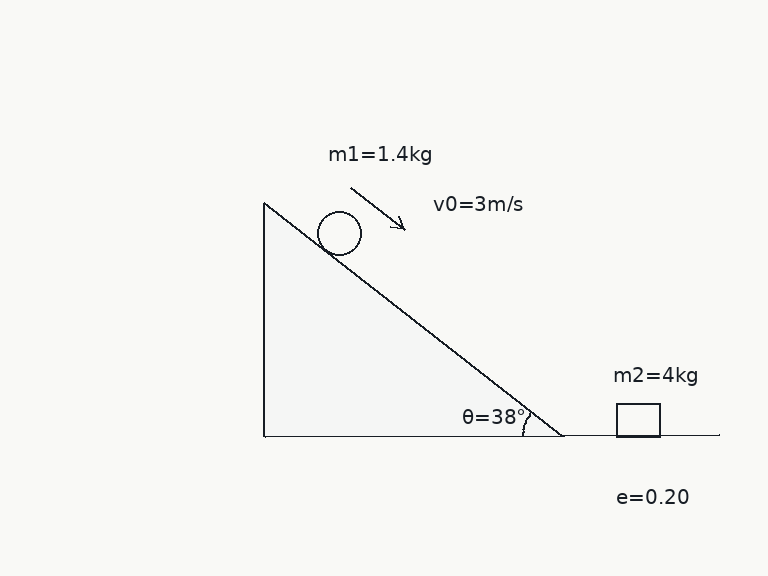ball: (315, 209, 363, 257)
block: (614, 402, 662, 438)
ramp: (262, 201, 565, 438)
